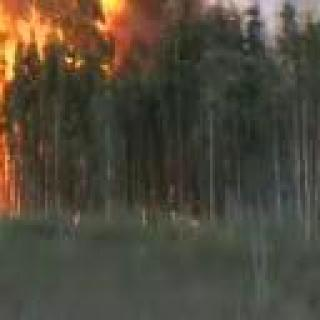fire: (0, 0, 18, 224), (79, 0, 133, 62)
